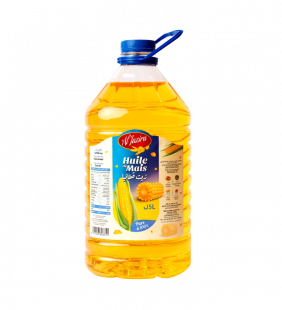AL JAZIRA: (84, 29, 193, 280)
